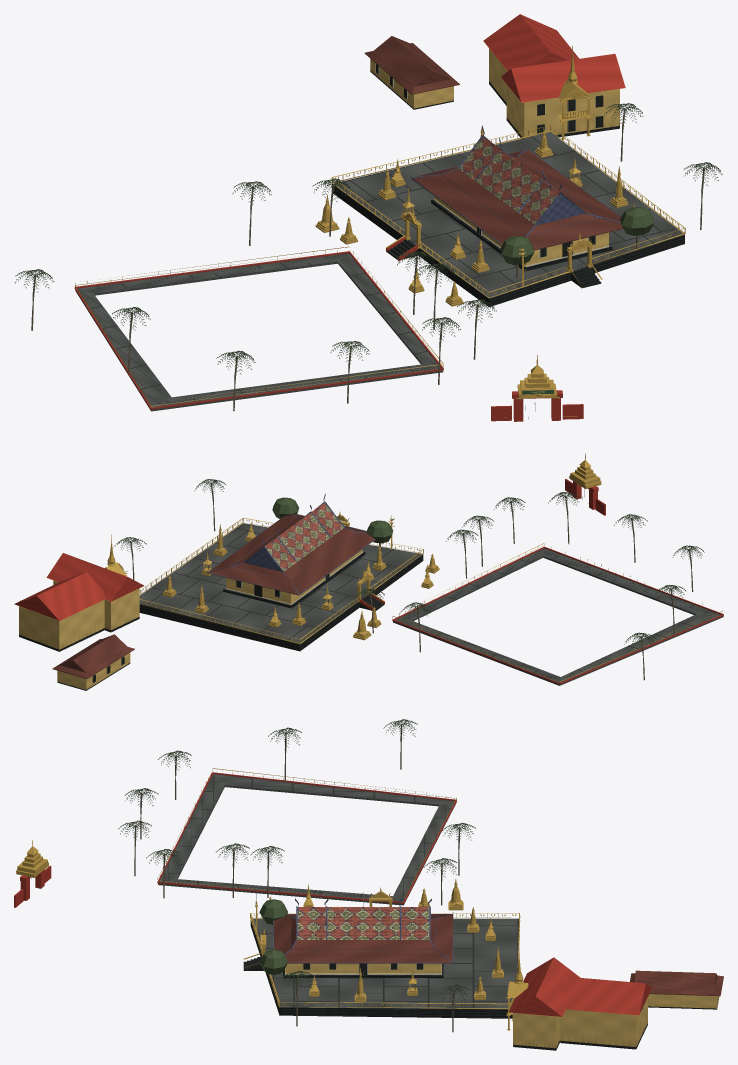
Rendered from xvay-ton-mid.glb.
3 views of the same model, one above another, from view 1: azimuth 30°, elevation 25°; view 2: azimuth 150°, elevation 25°; view 3: azimuth 270°, elevation 25° (orthographic). The views are drawn at different scales.
Visible parts, largest first — view 1: xvay-ton-mid; view 2: xvay-ton-mid; view 3: xvay-ton-mid.
Part boxes in pixels (left/top/right/bottom): xvay-ton-mid: left=15, top=14, right=722, bottom=421; xvay-ton-mid: left=14, top=453, right=723, bottom=690; xvay-ton-mid: left=14, top=719, right=723, bottom=1050.
Bounding box in the file's own units: 117 × 15.68 × 123.
1 material, 1 textured.
